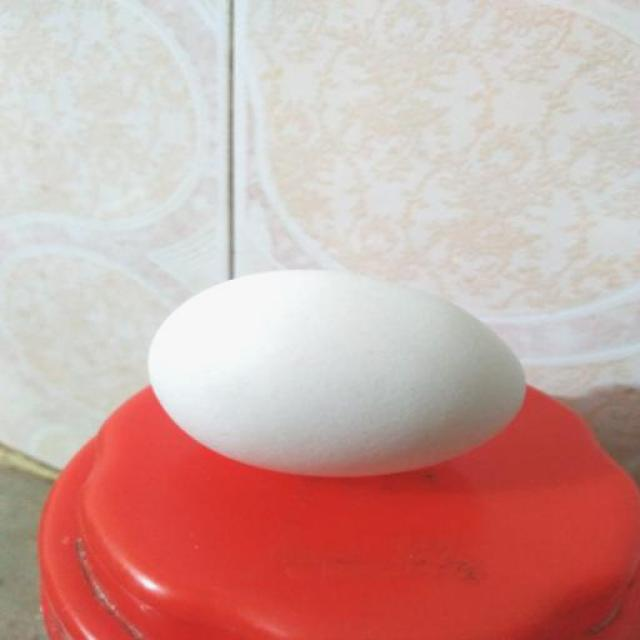telur: (151, 268, 523, 478)
